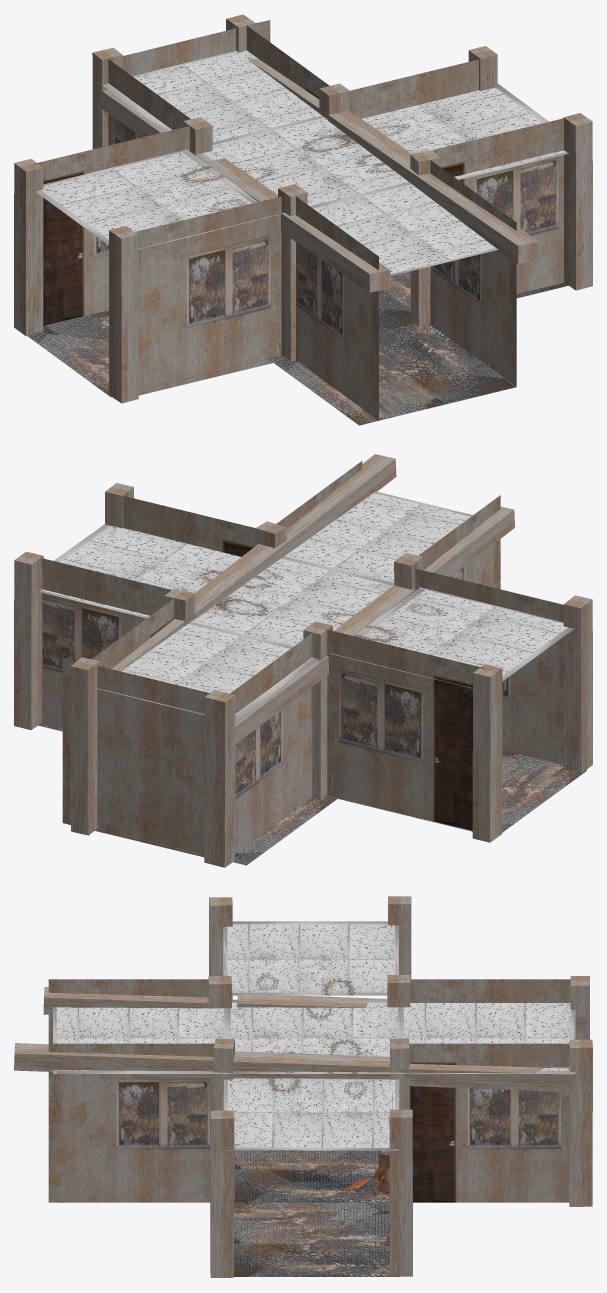
3 renders of one model, top to bottom at view 1: azimuth 30°, elevation 25°; view 2: azimuth 150°, elevation 25°; view 3: azimuth 270°, elevation 25°, orthographic. The views are drawn at different scales.
Visible parts, largest first — view 1: center_left_back_wall.001, front_left_wall, center_right_back_wall, cieling_center_left, floor_front, center_left_back_wall, cieling_center, front_right_wall, cieling_back, cieling_front, cieling_center_right, center_pillar_left.001 (+22 smaller); view 2: center_left_back_wall, back_pannel, back_left_wall, cieling_center_left, center_right_back_wall.001, cieling_center, center_left_back_wall.001, cieling_front, cieling_back, cieling_center_right, back_left_pillar, center_left_pillar.001 (+20 smaller); view 3: front_right_wall, back_right_wall, cieling_center_left, cieling_center_right, floor_center_right, cieling_center, floor_center, cieling_back, cieling_front, center_pillar_left.002, front_right_support_beam, center_left_pillar.002 (+15 smaller).
Part boxes in pixels (x1,y1,x2,y2): center_left_back_wall.001: (135,196,281,395); front_left_wall: (296,196,378,420); center_right_back_wall: (432,118,563,293); cieling_center_left: (35,149,276,249); floor_front: (268,323,515,425); center_left_back_wall: (33,126,189,325); cieling_center: (197,116,410,206); front_right_wall: (430,160,516,386); cieling_back: (100,50,322,142); cieling_front: (311,183,498,275); cieling_center_right: (362,83,568,180); center_pillar_left.001: (109,226,138,403); center_left_back_wall: (327,629,484,830); back_pannel: (62,657,209,857); back_left_wall: (230,633,312,854); cieling_center_left: (330,587,574,688); center_right_back_wall.001: (42,558,171,727); cieling_center: (189,557,413,647); center_left_back_wall.001: (415,568,563,764); cieling_front: (283,491,472,589); cieling_back: (97,623,318,721); cieling_center_right: (39,524,240,618); back_left_pillar: (204,690,235,867); center_left_pillar.001: (472,664,502,842); front_right_wall: (48,1043,214,1202); back_right_wall: (409,1043,569,1202); cieling_center_left: (223,921,398,995); cieling_center_right: (223,1078,399,1150); floor_center_right: (234,1202,399,1276); cieling_center: (226,999,402,1073); floor_center: (234,1150,389,1202); cieling_back: (400,1003,575,1073); cieling_front: (53,1007,228,1073); center_pillar_left.002: (210,1110,234,1277); front_right_support_beam: (14,1043,213,1077); center_left_pillar.002: (389,1109,412,1276).
Bounding box in the file's own units: 6.06 × 2.13 × 6.6.
Materials: 12 (12 with a texture image).
